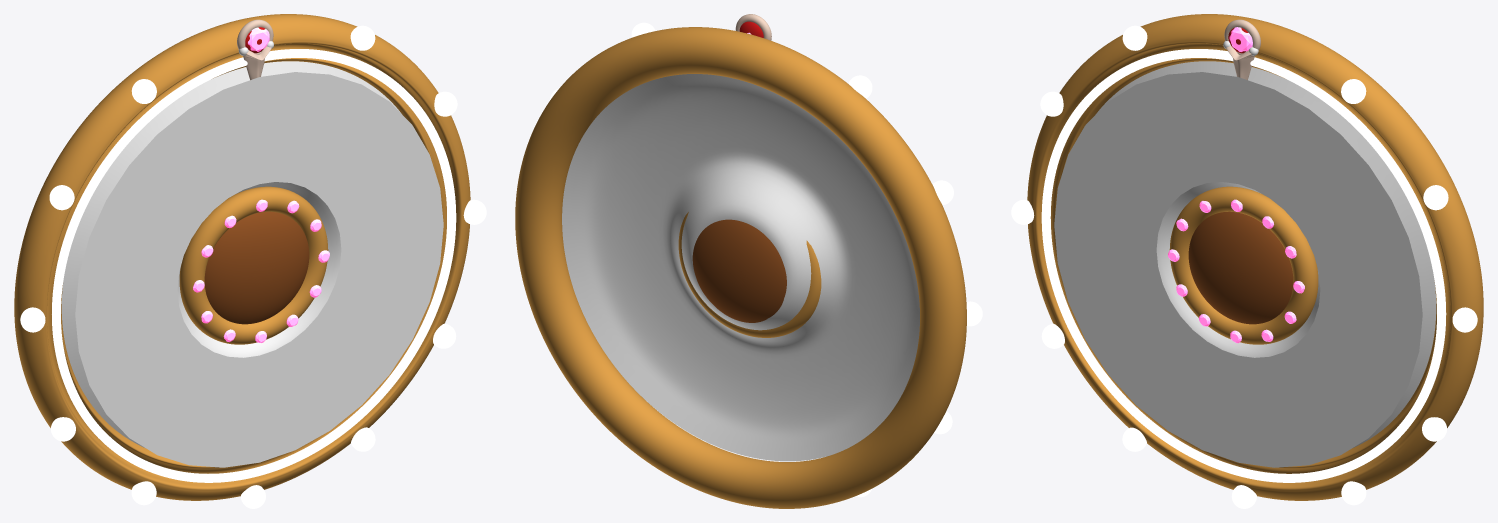
File: spinner.glb
3 renders of one model, left to right at view 1: azimuth 30°, elevation 25°; view 2: azimuth 150°, elevation 25°; view 3: azimuth 330°, elevation 25°, orthographic.
Parts seen in each view (by area): view 1: display, outerRingOfLight, outerRing, backSide, Center, innerRing, outerLight1, outerLight3, outerLight2, outerLight5, outerLight4; view 2: backSide, outerRingOfLight, Center, innerRing, outerLight1; view 3: display, outerRingOfLight, outerRing, backSide, Center, innerRing, outerLight1, outerLight3, outerLight2, outerLight5, outerLight4.
Part boxes in pixels (box(x1,y1,x2,y2)): display: box(75, 72, 443, 467); outerRingOfLight: box(14, 14, 470, 500); outerRing: box(52, 49, 456, 482); backSide: box(61, 61, 400, 447); Center: box(204, 211, 309, 324); innerRing: box(179, 186, 328, 344); outerLight1: box(131, 25, 375, 103); outerLight3: box(49, 91, 457, 210); outerLight2: box(20, 199, 486, 332); outerLight5: box(51, 323, 456, 441); outerLight4: box(131, 427, 375, 505); backSide: box(562, 74, 919, 461); outerRingOfLight: box(515, 27, 966, 508); Center: box(692, 219, 786, 322); innerRing: box(678, 212, 821, 337); outerLight1: box(631, 22, 872, 98); display: box(1054, 72, 1422, 467); outerRingOfLight: box(1027, 14, 1483, 500); outerRing: box(1041, 49, 1446, 482); backSide: box(1097, 61, 1436, 447); Center: box(1188, 211, 1293, 324); innerRing: box(1169, 186, 1318, 344); outerLight1: box(1122, 25, 1366, 103); outerLight3: box(1040, 91, 1448, 210); outerLight2: box(1011, 199, 1477, 332); outerLight5: box(1041, 323, 1446, 441); outerLight4: box(1122, 427, 1366, 505).
Size of the model in its own units: 6.8 by 6.86 by 0.8757.
